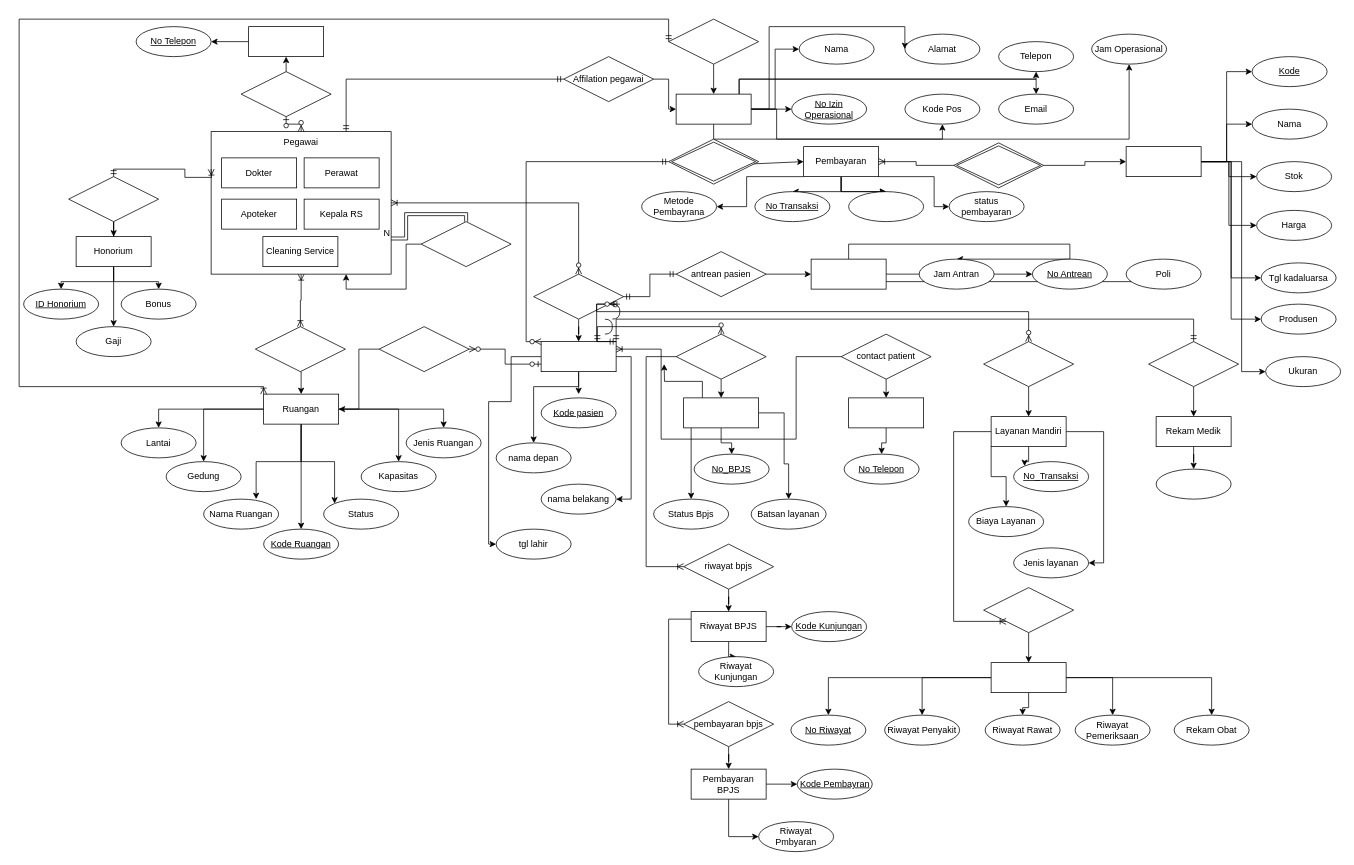
Some shapes in this 1354 by 865 pixel diagram are drawn without their labels. The shapes that lost their labels are listed below. From the top down, each one's centre as x and y in pixels, then its label:
At point (286, 41): "Contact Pegawai".
At point (713, 41): "Ruangan RS".
At point (285, 94): "employee contact".
At point (713, 108): "Rumah Sakit".
At point (713, 161): "patient billing".
At point (998, 165): "pembayran obat".
At point (1163, 161): "Obat".
At point (113, 199): "honorium employee".
At point (886, 206): "Tgl pembayaran".
At point (465, 244): "rekursif employee".
At point (848, 273): "Antrean".
At point (578, 296): "patient care provider".
At point (300, 349): "employee room".
At point (423, 349): "patient room".
At point (578, 356): "Pasien".
At point (720, 356): "lynan bpjs pasien".
At point (1028, 364): "lynan mandiri".
At point (1193, 364): "patient medical report".
At point (721, 412): "Layanan BPJS".
At point (886, 412): "Contact Pasien".
At point (1193, 483): "No Rekam Medik".
At point (1028, 610): "riwayat mandiri".
At point (1028, 677): "Riwayat Kesehatan".
